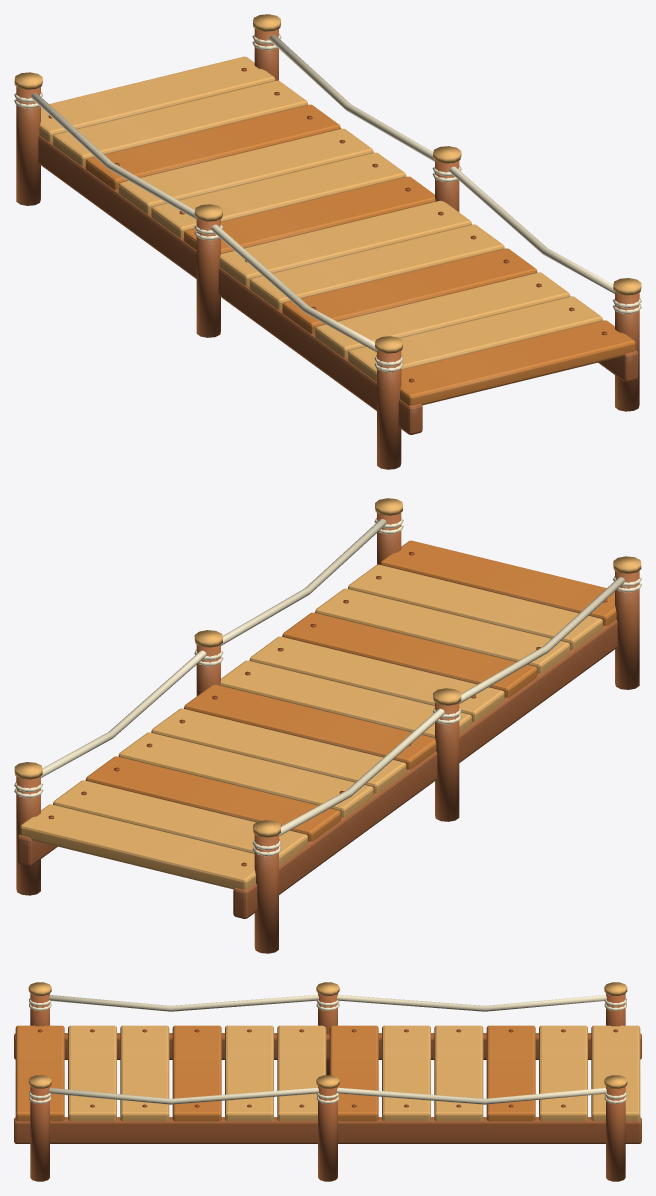
The model's file is RopeBridge.fbx.
3 renders of one model, top to bottom at view 1: azimuth 30°, elevation 25°; view 2: azimuth 150°, elevation 25°; view 3: azimuth 270°, elevation 25°, orthographic. The views are drawn at different scales.
Visible parts, largest first — view 1: RopeBridge; view 2: RopeBridge; view 3: RopeBridge.
Part boxes in pixels (x1,y1,x2,y2): RopeBridge: [14, 14, 641, 469]; RopeBridge: [14, 498, 641, 953]; RopeBridge: [14, 982, 641, 1181].
Size of the model in its own units: 9.3 by 4.12 by 24.
Materials: 1 (1 with a texture image).
